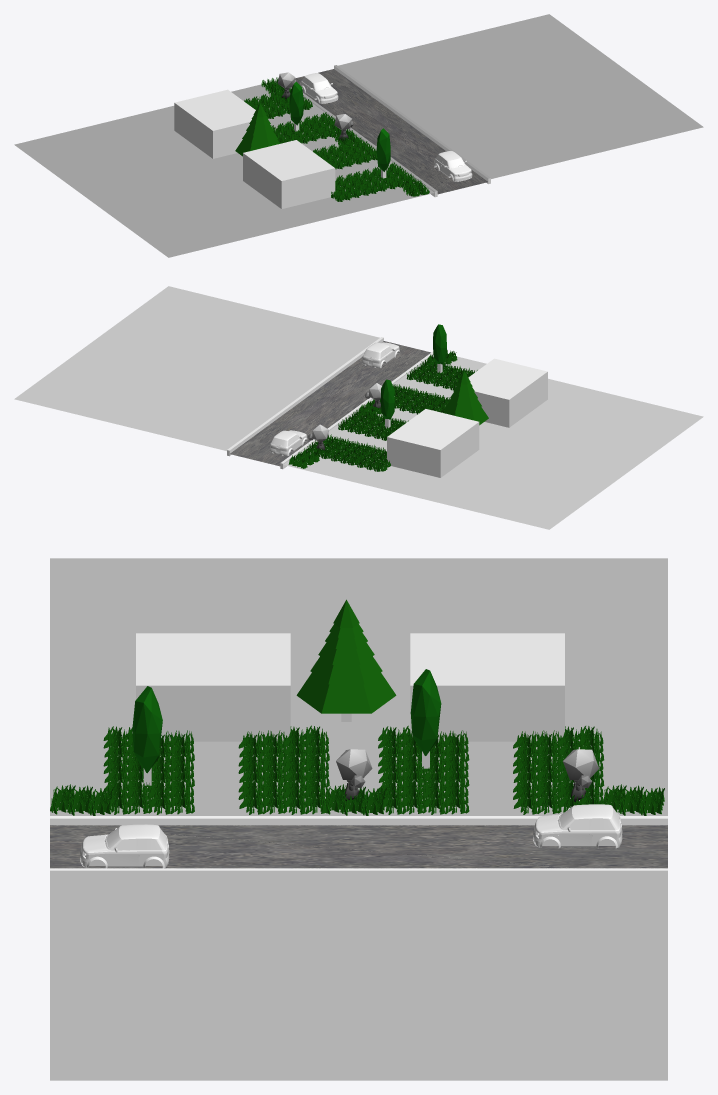
File: Module_3_SM.FBX
3 views of the same model, one above another, from view 1: azimuth 30°, elevation 25°; view 2: azimuth 150°, elevation 25°; view 3: azimuth 270°, elevation 25° (orthographic). The views are drawn at different scales.
Parts seen in each view (by area): view 1: Module_3_SM_LOD0; view 2: Module_3_SM_LOD0; view 3: Module_3_SM_LOD0.
Part boxes in pixels (bbox=[...]): Module_3_SM_LOD0: bbox=[14, 14, 703, 257]; Module_3_SM_LOD0: bbox=[14, 286, 703, 529]; Module_3_SM_LOD0: bbox=[50, 558, 667, 1080].
Size of the model in its own units: 10000 by 5000 by 1155.
